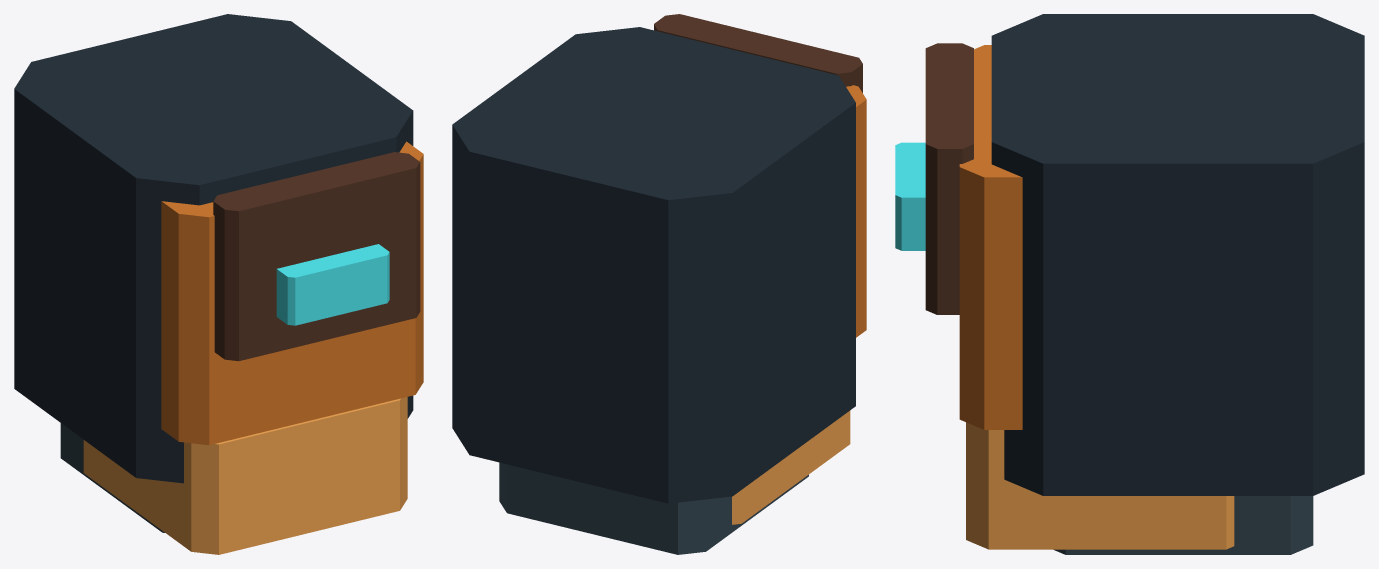
File: enemy_runner_lod_body.obj
3 views of the same model, side by side, from view 1: azimuth 30°, elevation 25°; view 2: azimuth 150°, elevation 25°; view 3: azimuth 270°, elevation 25° (orthographic). The views are drawn at different scales.
Size of the model in its own units: 0.551 by 0.705 by 0.73.
